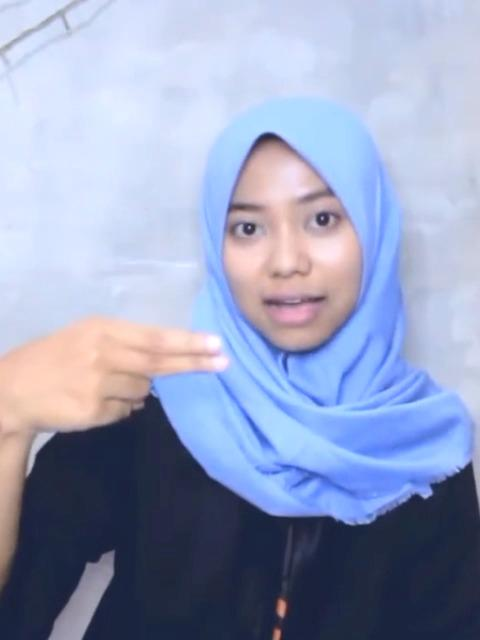H: (0, 313, 230, 435)
